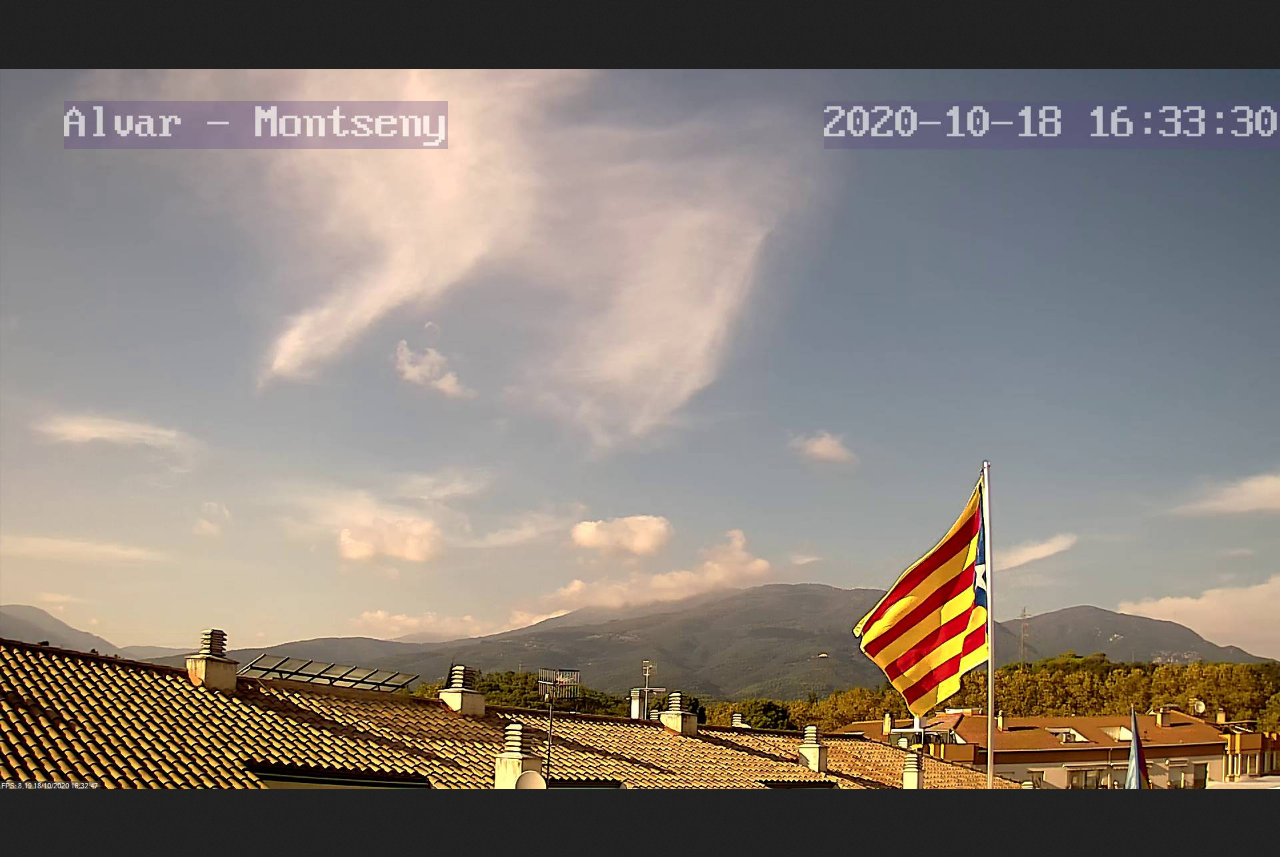maybe: (853, 475, 989, 718)
